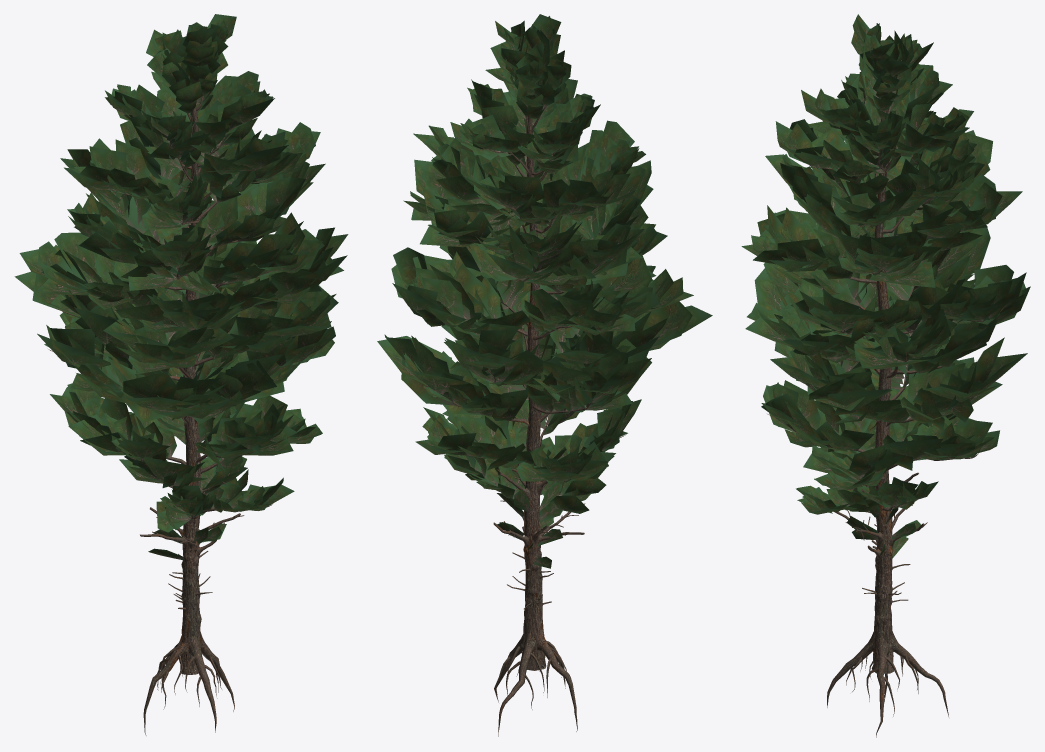
The model's file is Pine_01_LOD0.fbx.
3 views of the same model, side by side, from view 1: azimuth 30°, elevation 25°; view 2: azimuth 150°, elevation 25°; view 3: azimuth 270°, elevation 25° (orthographic).
Visible parts, largest first — view 1: Listva_5, Listva_6, Listva_4, Listva_3, Listva_7, Listva_9, Stvol, Listva_10, Listva_2, Listva_8, Vetki, Listva_1; view 2: Listva_5, Listva_6, Listva_4, Listva_7, Listva_3, Listva_9, Stvol, Listva_10, Listva_2, Vetki, Listva_1, Listva_8; view 3: Listva_5, Listva_6, Listva_3, Listva_4, Listva_9, Listva_7, Stvol, Listva_10, Listva_2, Listva_8, Vetki, Listva_1.
Part boxes in pixels (left/top/right/bottom): Listva_5: left=14, top=193, right=348, bottom=373; Listva_6: left=60, top=149, right=325, bottom=294; Listva_4: left=37, top=315, right=335, bottom=423; Listva_3: left=50, top=372, right=322, bottom=493; Listva_7: left=64, top=121, right=320, bottom=236; Listva_9: left=105, top=71, right=274, bottom=170; Stvol: left=143, top=105, right=234, bottom=735; Listva_10: left=146, top=14, right=236, bottom=113; Listva_2: left=156, top=442, right=294, bottom=532; Listva_8: left=197, top=130, right=288, bottom=198; Vetki: left=48, top=91, right=318, bottom=610; Listva_1: left=148, top=523, right=226, bottom=559; Listva_5: left=391, top=220, right=693, bottom=401; Listva_6: left=403, top=155, right=653, bottom=292; Listva_4: left=377, top=301, right=712, bottom=420; Listva_7: left=413, top=120, right=645, bottom=227; Listva_3: left=415, top=345, right=641, bottom=484; Listva_9: left=450, top=79, right=600, bottom=173; Stvol: left=494, top=115, right=577, bottom=736; Listva_10: left=485, top=14, right=571, bottom=119; Listva_2: left=443, top=437, right=606, bottom=521; Vetki: left=409, top=62, right=626, bottom=608; Listva_1: left=497, top=517, right=562, bottom=568; Listva_8: left=500, top=79, right=577, bottom=177; Listva_5: left=745, top=210, right=1030, bottom=375; Listva_6: left=741, top=130, right=1022, bottom=287; Listva_3: left=761, top=357, right=1002, bottom=492; Listva_4: left=747, top=268, right=1027, bottom=430; Listva_9: left=801, top=63, right=973, bottom=173; Listva_7: left=790, top=112, right=977, bottom=226; Stvol: left=827, top=111, right=948, bottom=737; Listva_10: left=851, top=14, right=933, bottom=119; Listva_2: left=796, top=447, right=938, bottom=523; Listva_8: left=775, top=121, right=888, bottom=195; Vetki: left=753, top=77, right=997, bottom=602; Listva_1: left=846, top=511, right=920, bottom=558.
Size of the model in its own units: 1123 by 1038 by 2794.
